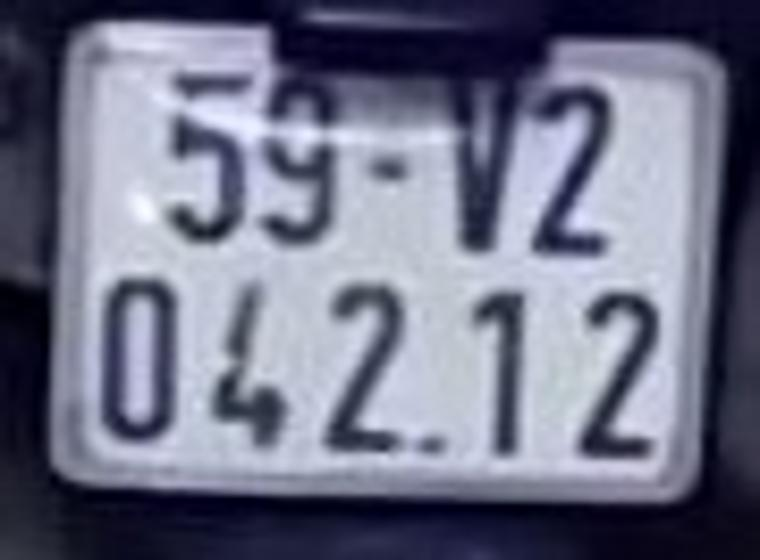-: (370, 155, 403, 181)
.: (419, 438, 442, 456)
0: (101, 278, 173, 439)
1: (475, 288, 521, 452)
2: (583, 288, 655, 459), (536, 83, 607, 256), (330, 283, 400, 452)
4: (214, 287, 281, 445)
5: (170, 75, 245, 243)
9: (266, 81, 335, 247)
V: (451, 78, 518, 254)
